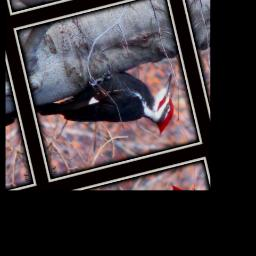Woodpecker: (29, 48, 185, 163)
